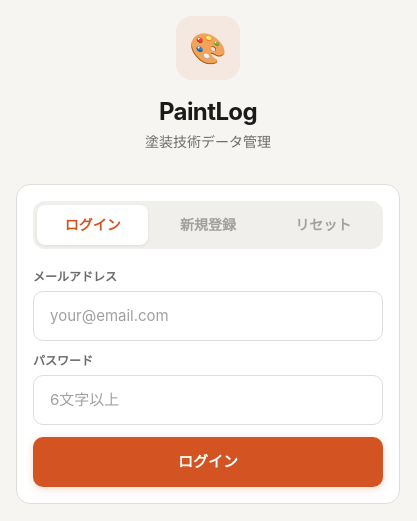
Scenario: ログイン画面 › ログイン中はボタンテキストが変わる
Type "test@example.com" into the field. click: (208, 316)
box: [33,291,383,341]
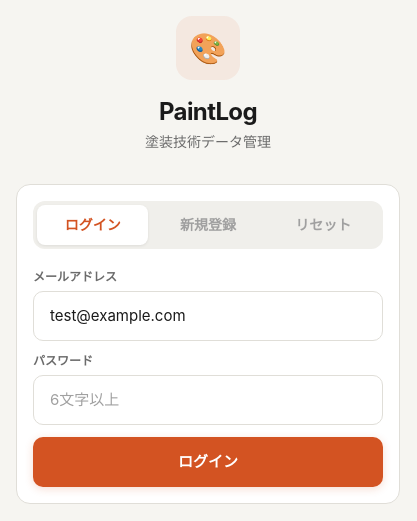
Type "pass" into the password field with placeholder "6文字以上". click: (208, 400)
box: [33,375,383,425]
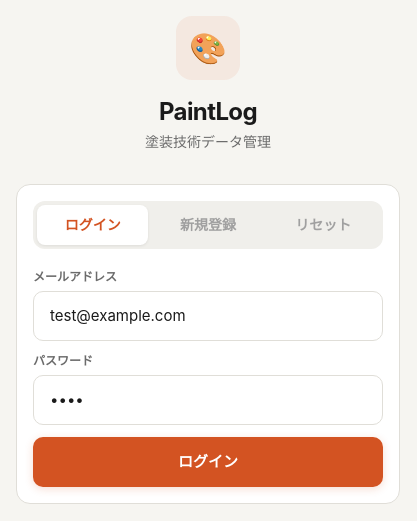
Submit the form from the submit button, box [33,437,383,487]
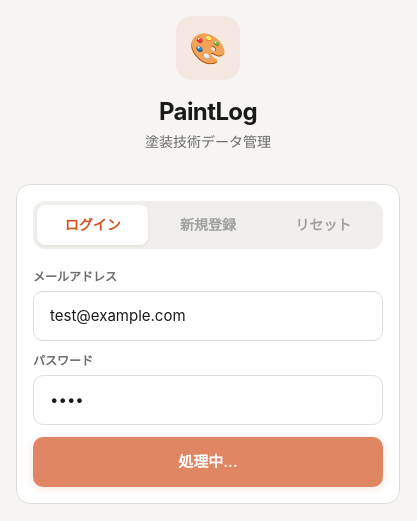
Expected: the text "処理中..." is shown, [178,451,238,473]
